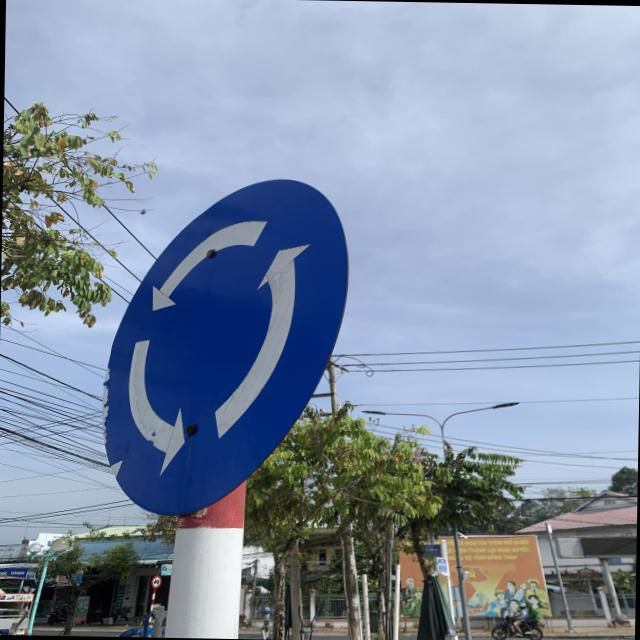Xe_Bus: (104, 176, 354, 524)
